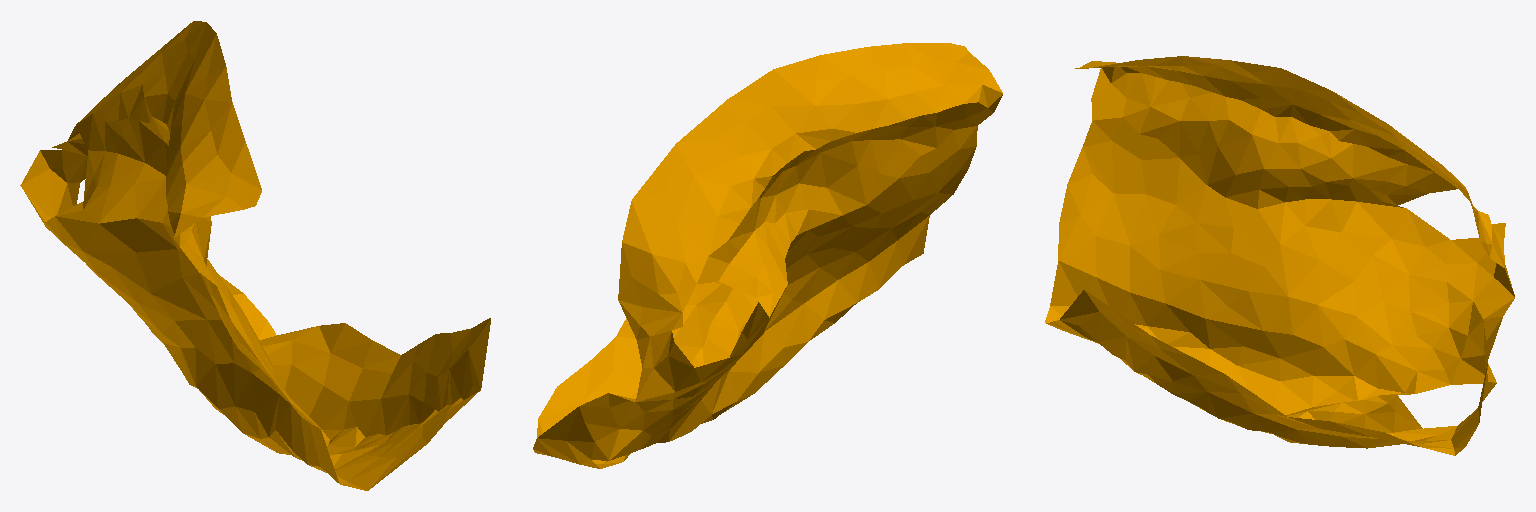
robot.urdf — init:
<?xml version='1.0' encoding='utf-8'?>
<robot name="init">
<link name="link_0"><inertial><mass value="1.0" /><origin rpy="0 0 0" xyz="0.000000 0.000000 0.000000" /><inertia ixx="1.0" ixy="0.0" ixz="0.0" iyy="1.0" iyz="0.0" izz="1.0" /></inertial><visual><origin rpy="0 0 0" xyz="0.000000 0.000000 0.000000" /><geometry><mesh filename="./clothHuman/cloth/499.obj" /></geometry></visual><collision><origin rpy="0 0 0" xyz="0.000000 0.000000 0.000000" /><geometry><mesh filename="./clothHuman/cloth/499.obj" /></geometry></collision></link></robot>

--- What the picture shows (computed from the rendered views, not written in the file) ---
The picture shows the robot from 3 angles, left to right: view 1: azimuth 30°, elevation 25°; view 2: azimuth 150°, elevation 25°; view 3: azimuth 270°, elevation 25°; orthographic projection.
Robot: init — 1 links, 0 joints (none); root link link_0; default pose: all joints at 0.
Visible links, largest first — view 1: link_0; view 2: link_0; view 3: link_0.
Link boxes in pixels (x1,y1,x2,y2): link_0: [20, 21, 490, 490]; link_0: [533, 43, 1002, 468]; link_0: [1045, 56, 1514, 455].
Size in the robot's own frame: 2.45 by 3.7 by 2.91 metres.
Meshes: 1 distinct files referenced, 1 mesh visuals loaded (1 OBJ).